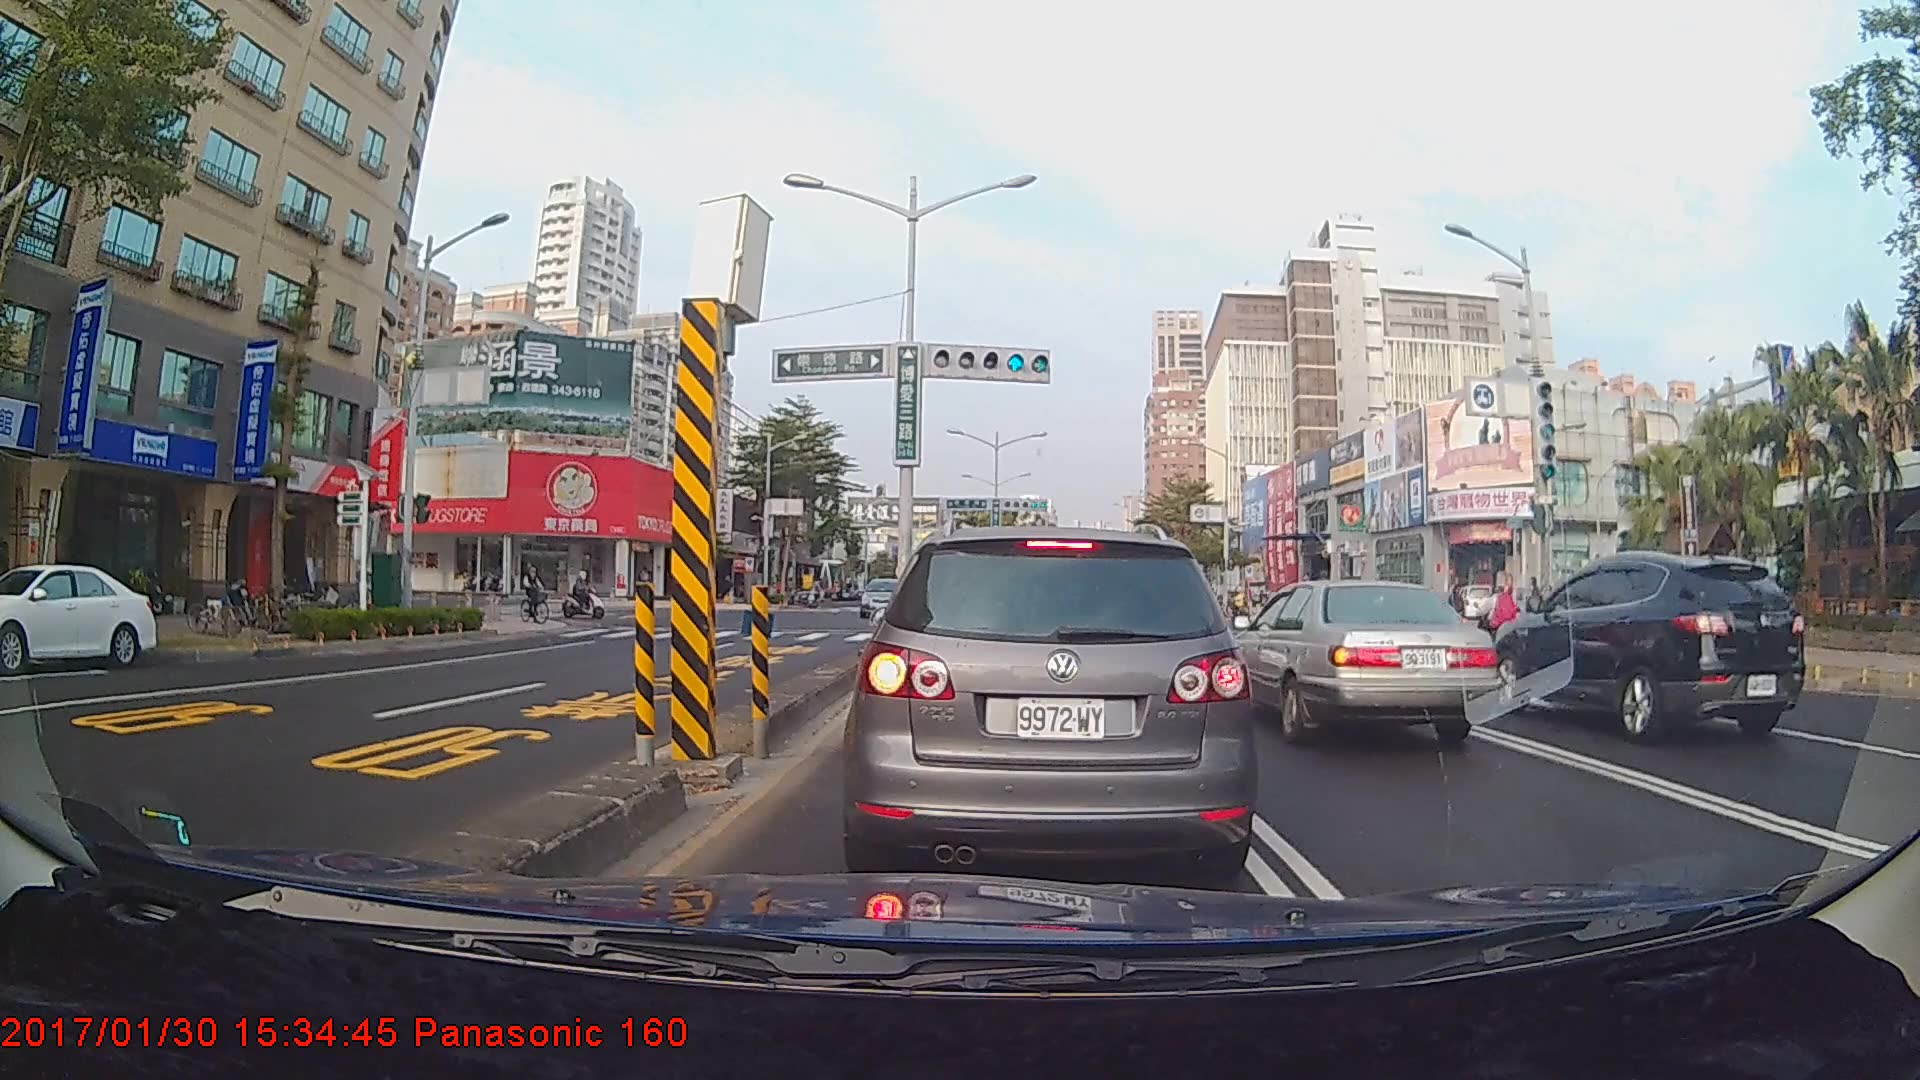rider: (518, 559, 561, 629), (564, 568, 615, 625)
vehicle: (850, 523, 1251, 881), (1491, 548, 1809, 739), (1212, 574, 1499, 746), (0, 561, 162, 671), (858, 576, 913, 618)
